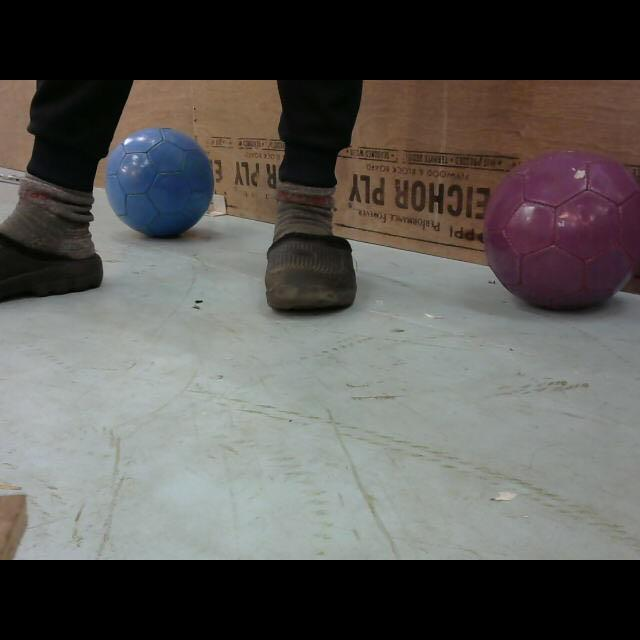B: (104, 125, 216, 237)
P: (482, 148, 640, 312)
